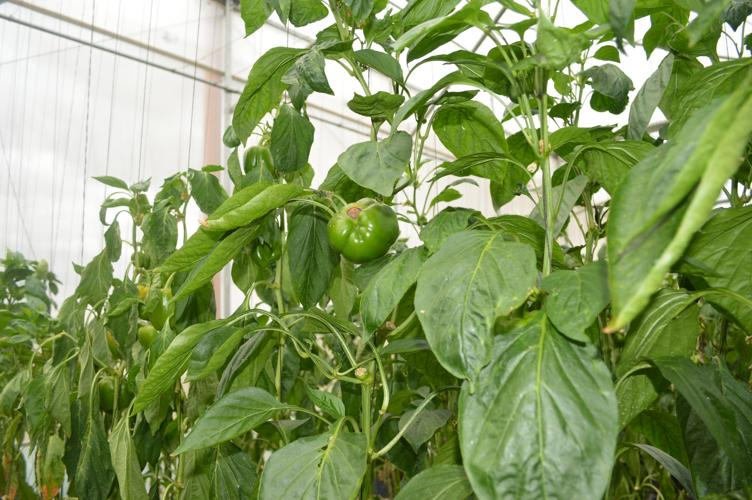BellPepper: (325, 197, 395, 263)
